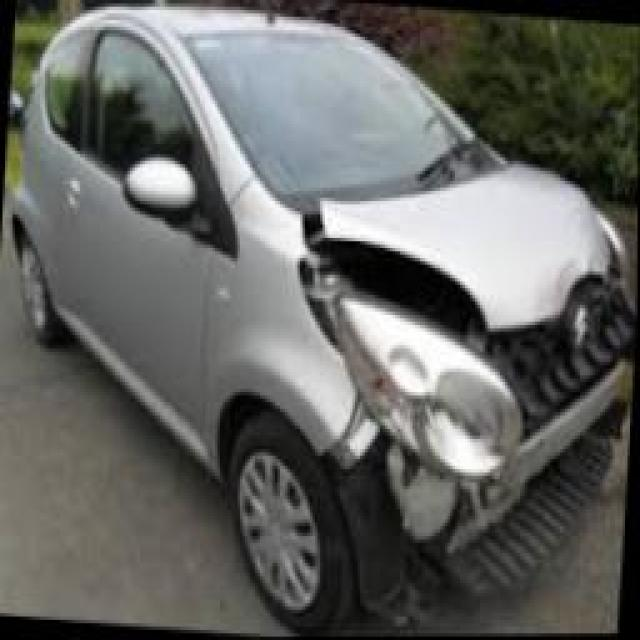Bonnet: (303, 161, 631, 436)
Bumper: (347, 362, 632, 619)
Light: (308, 262, 518, 473)
